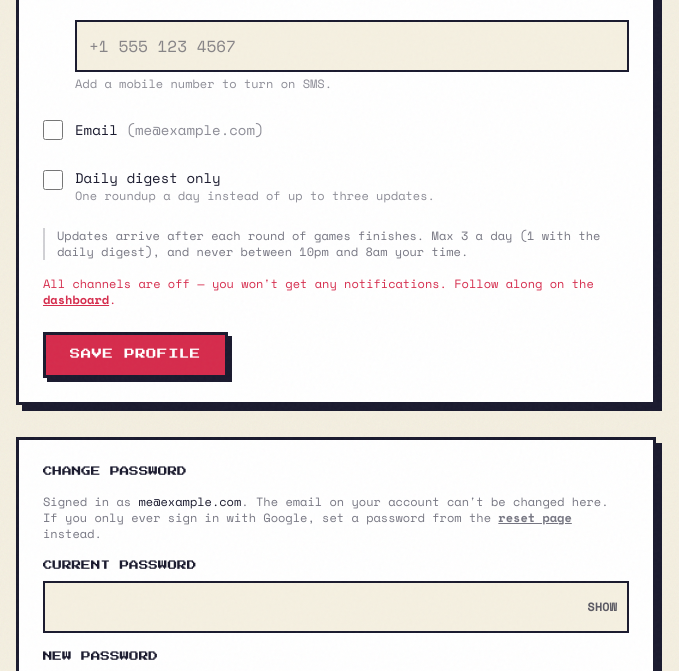
Test: ProfileClient › surfaces other API errors
(page scrolled)
Click the button "Save Profile" at [135, 355], box left=43, top=332, right=228, bottom=378
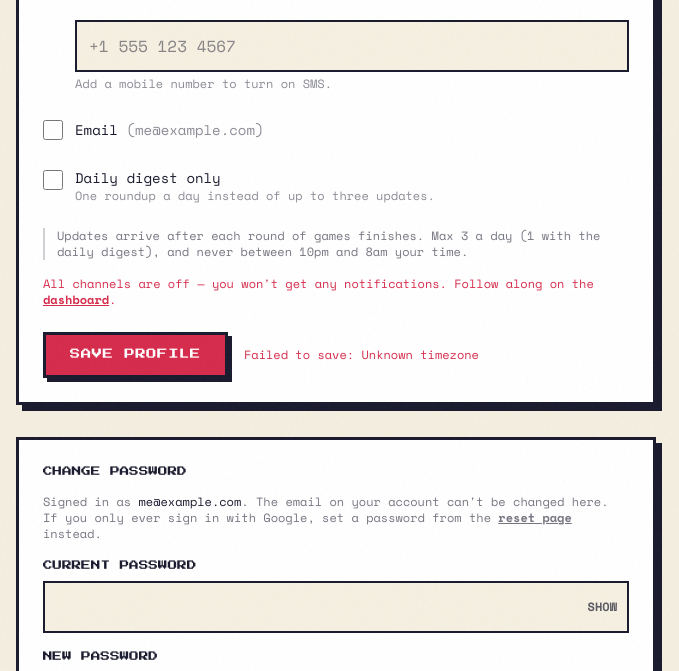
Expected: the message "Failed to save: Unknown timezone" is shown, left=244, top=347, right=479, bottom=363
